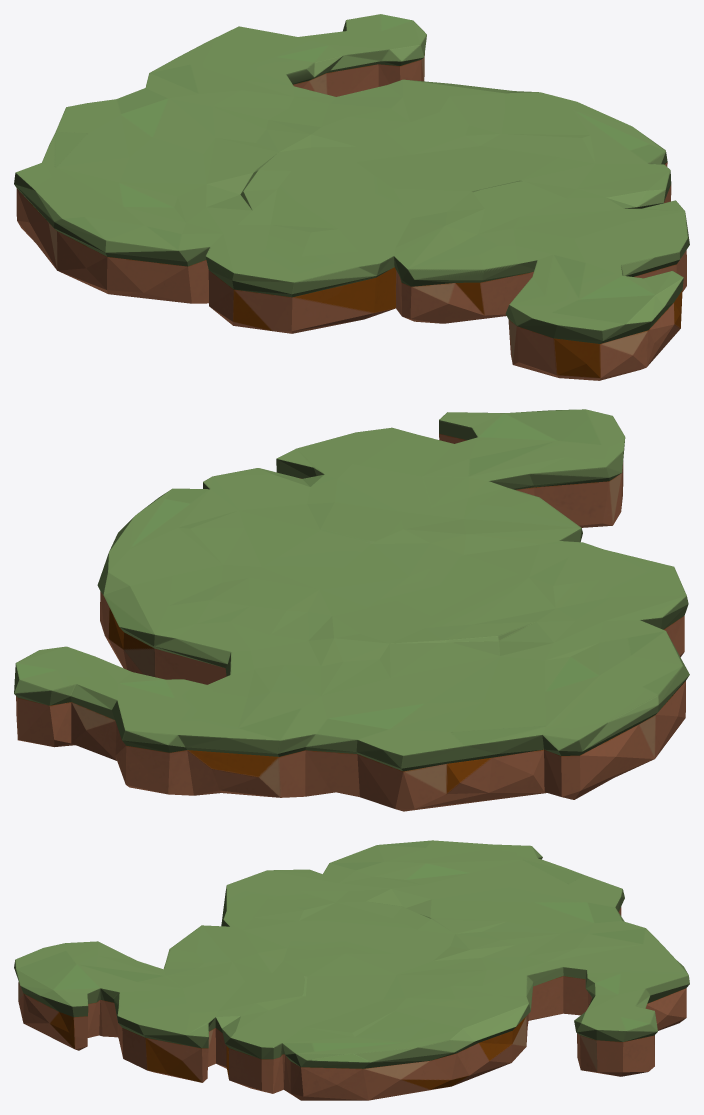
File: island.obj
3 views of the same model, one above another, from view 1: azimuth 30°, elevation 25°; view 2: azimuth 150°, elevation 25°; view 3: azimuth 270°, elevation 25° (orthographic). The views are drawn at different scales.
Visible parts, largest first — view 1: floating_island_1.1_Material_0; view 2: floating_island_1.1_Material_0; view 3: floating_island_1.1_Material_0.
Boxes of the visible parts, x1,y1,x2,y2 form: floating_island_1.1_Material_0: (14,14,689,380); floating_island_1.1_Material_0: (14,409,689,811); floating_island_1.1_Material_0: (14,840,689,1100).
Bounding box in the file's own units: 0.1945 × 0.0204 × 0.2557.
1 material, 1 textured.
